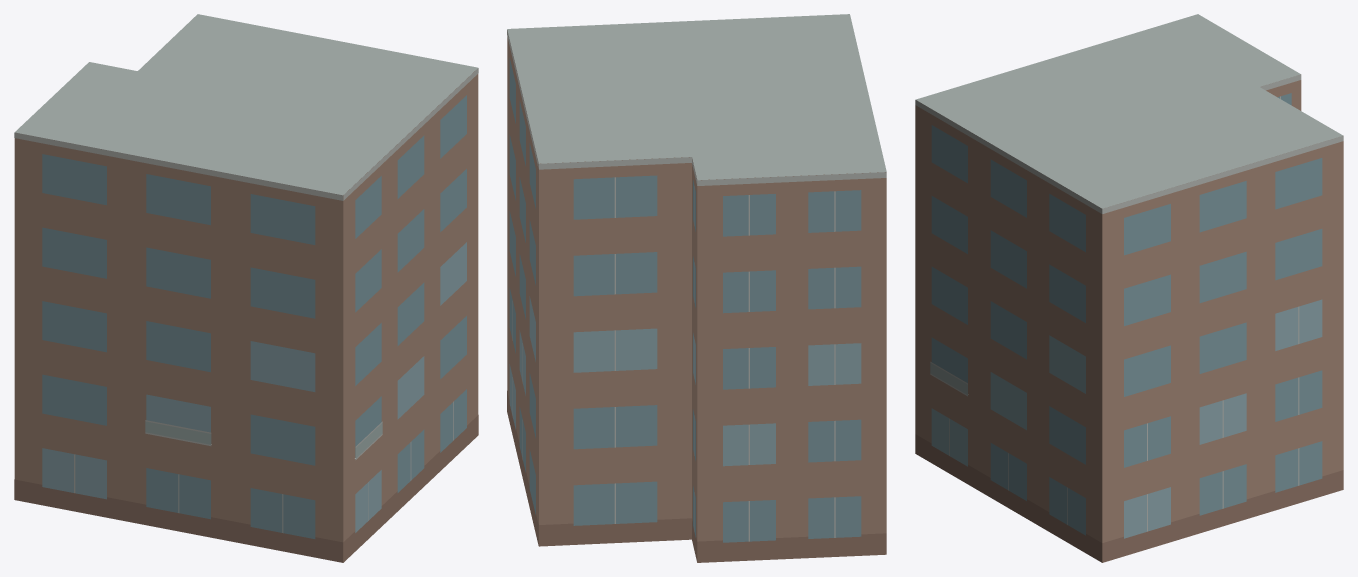
File: survey-upis-32944166.glb
3 renders of one model, left to right at view 1: azimuth 30°, elevation 25°; view 2: azimuth 150°, elevation 25°; view 3: azimuth 270°, elevation 25°, orthographic. The views are drawn at different scales.
Visible parts, largest first — view 1: survey-upis-32944166.tmp; view 2: survey-upis-32944166.tmp; view 3: survey-upis-32944166.tmp.
Part boxes in pixels (bbox=[...]): survey-upis-32944166.tmp: bbox=[14, 14, 478, 562]; survey-upis-32944166.tmp: bbox=[507, 14, 886, 562]; survey-upis-32944166.tmp: bbox=[915, 14, 1343, 562].
Size of the model in its own units: 18.77 by 15.9 by 17.43.
